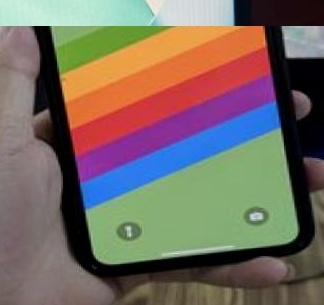scratch: (0, 0, 258, 26)
